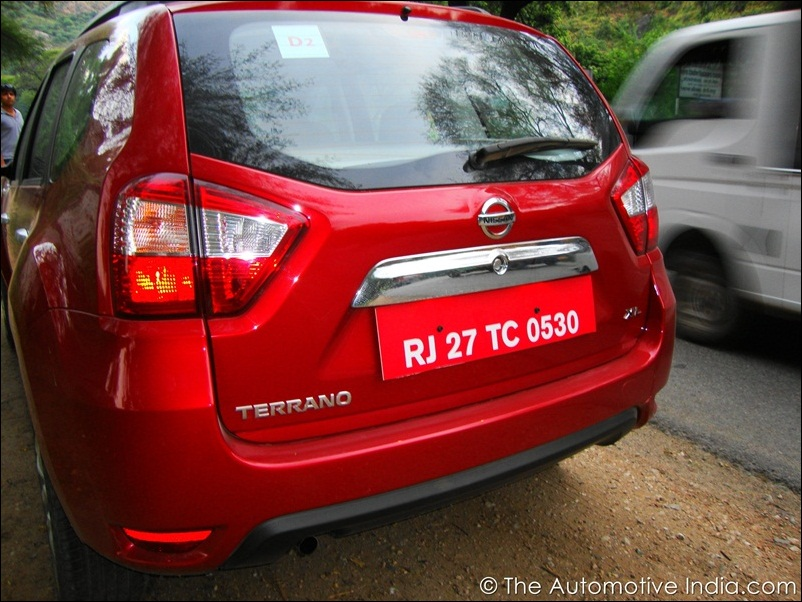number_plate: (372, 300, 610, 364)
